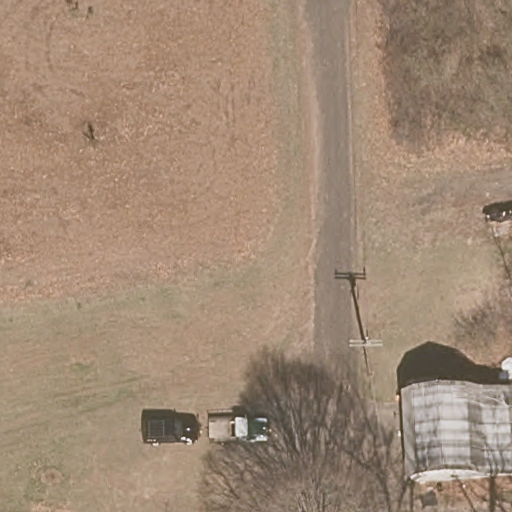DT: (348, 333, 383, 377)
